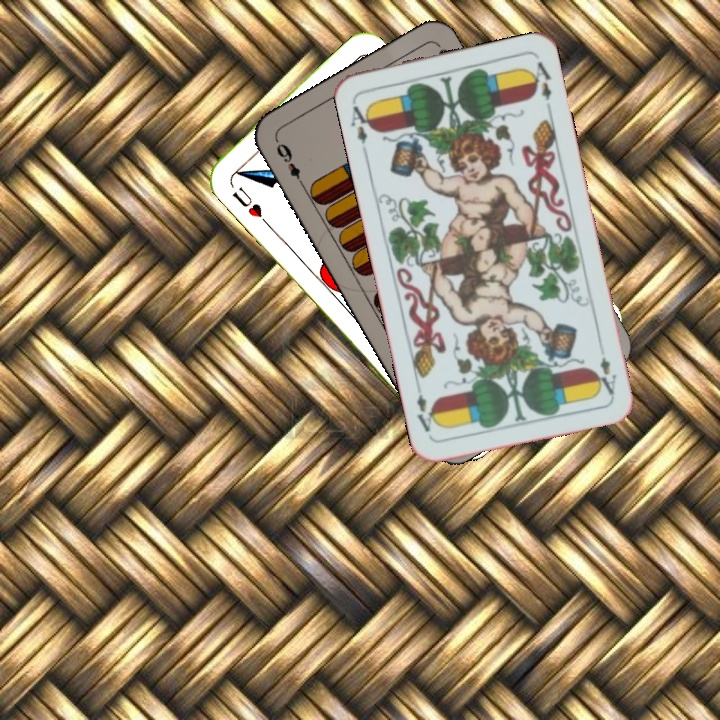E9: (272, 136, 308, 190)
EA: (347, 97, 376, 147), (592, 354, 619, 398)
HU: (228, 182, 265, 220)
